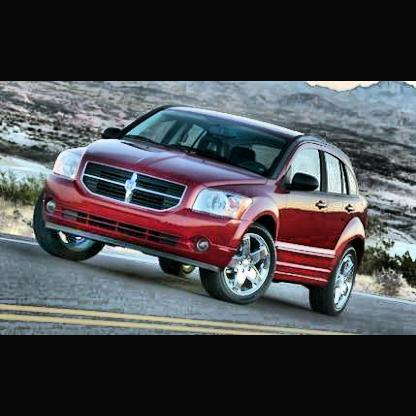Dodge Caliber Wagon 2007: (35, 104, 370, 317)
